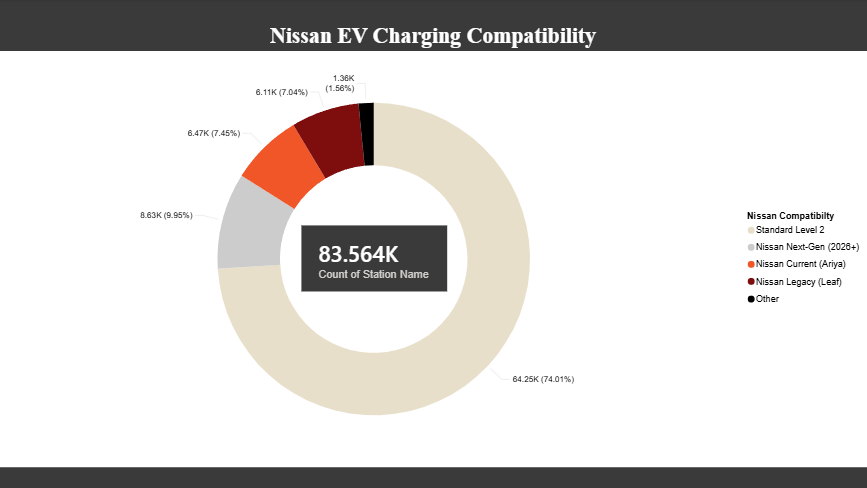

The dashboard page shown, as its layout file describes it:
{"tool":"powerbi","page":{"name":"Page 2","canvas":[1280,720],"ordinal":1},"visuals":[{"type":"donutChart","fields":{"Category":["US_EV_Charging_Stations.Nissan Compatibilty"],"Y":["CountNonNull(US_EV_Charging_Stations.Nissan Compatibilty)"]},"box":[0,76.3,1280,610.6],"z":0},{"type":"cardVisual","fields":{"Data":["Count(US_EV_Charging_Stations.Station Name)"]},"box":[441.8,327.3,224.6,107.2],"z":1000},{"type":"textbox","box":[139.4,30.8,1001.1,58.7],"z":2000}]}

Visuals, with their boxes in screenshot pixels (x1, y1, x2, y2), scaled from the page's 1280x720 canvas onto the 867x488 screenshot:
donutChart - US_EV_Charging_Stations.Nissan Compatibilty x CountNonNull(US_EV_Charging_Stations.Nissan Compatibilty): select_region(0, 52, 866, 466)
cardVisual - Count(US_EV_Charging_Stations.Station Name): select_region(299, 222, 451, 294)
textbox: select_region(94, 21, 773, 61)
